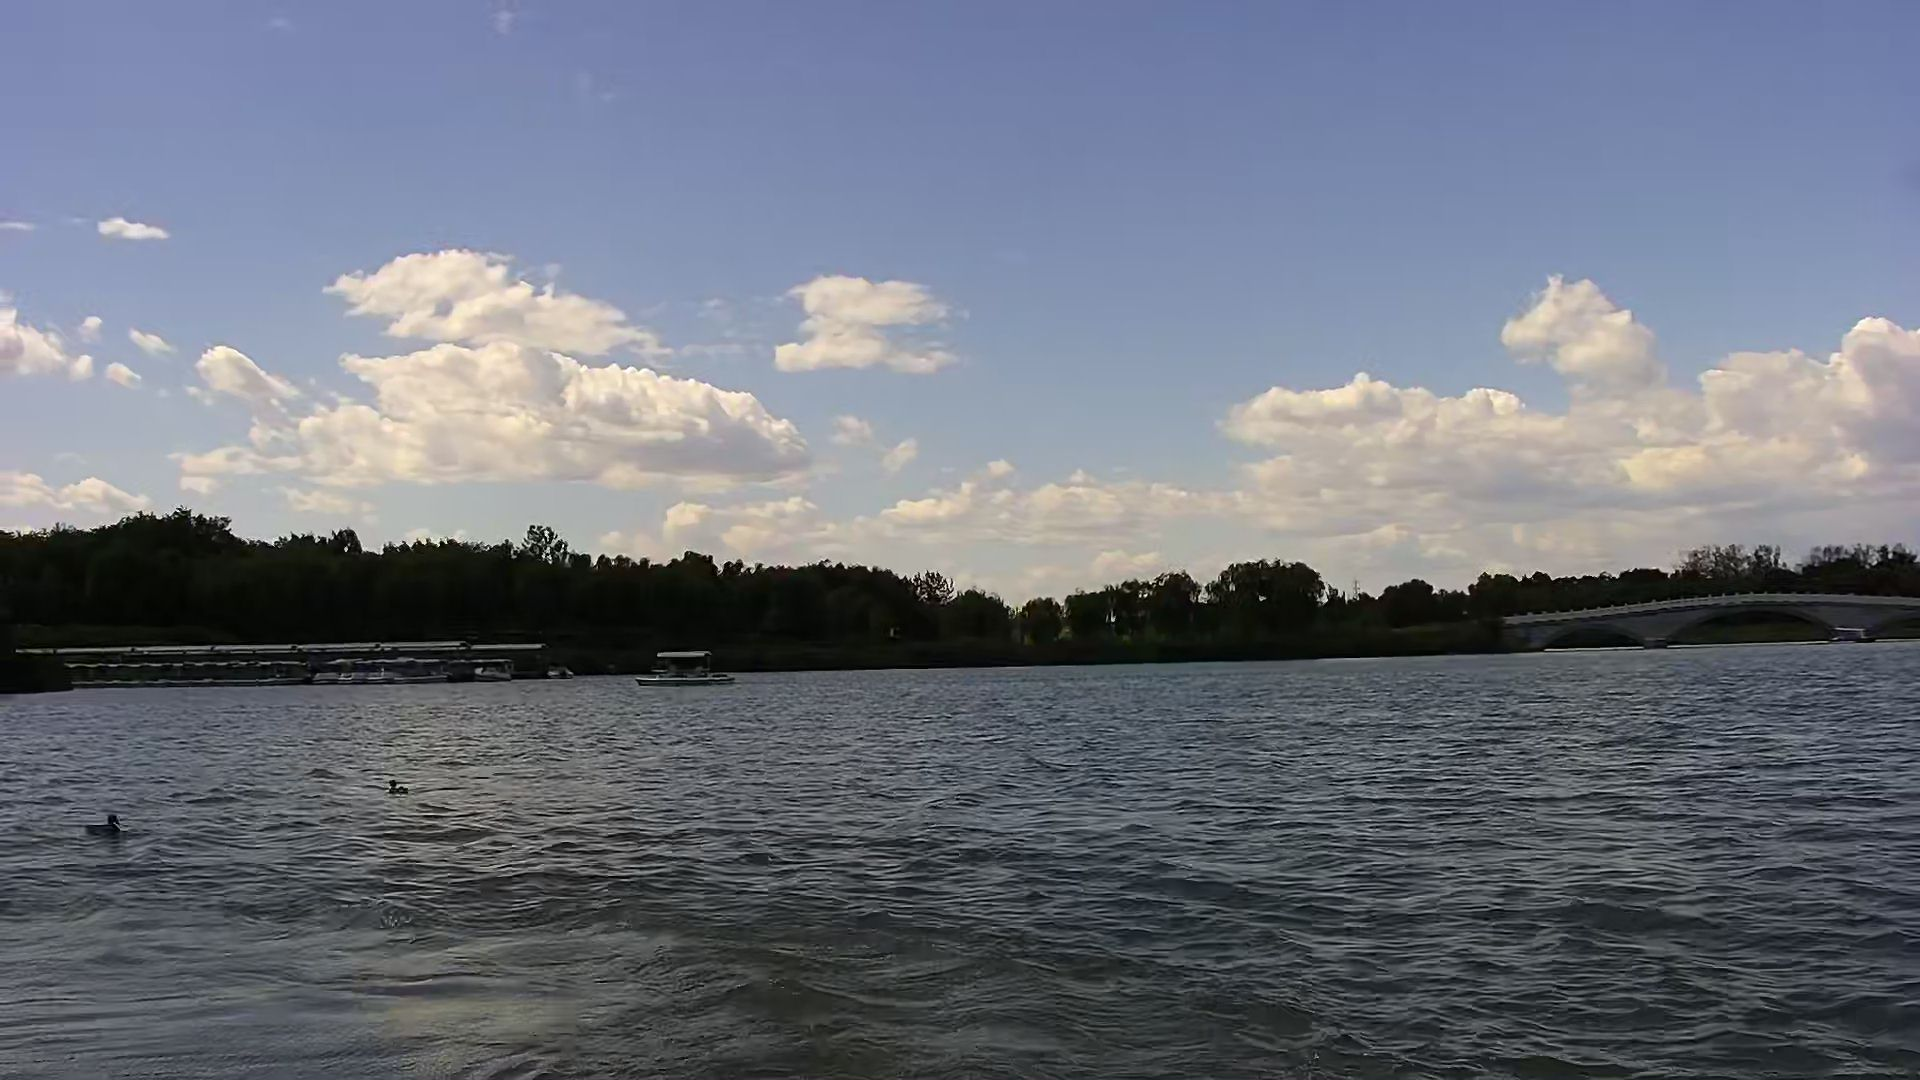animal: (79, 802, 135, 845), (382, 771, 419, 802)
boat: (640, 651, 742, 688)
bridge: (1509, 584, 1920, 649)
harbor: (1, 640, 538, 684)
